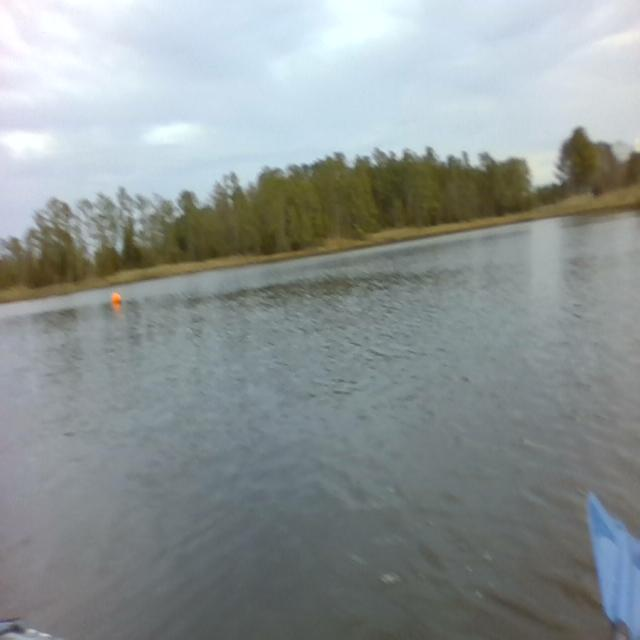Buoy: (110, 290, 123, 308)
